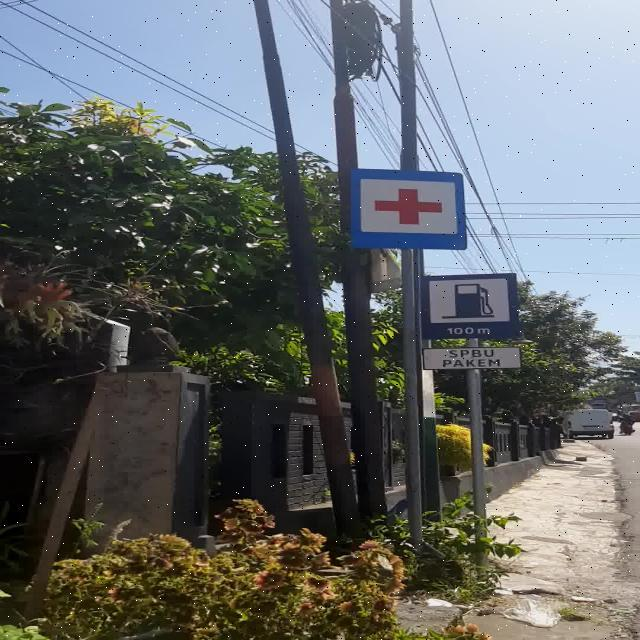Balai Pertolongan Pertama: (352, 168, 467, 250)
Pom Bensin: (419, 272, 517, 340)
